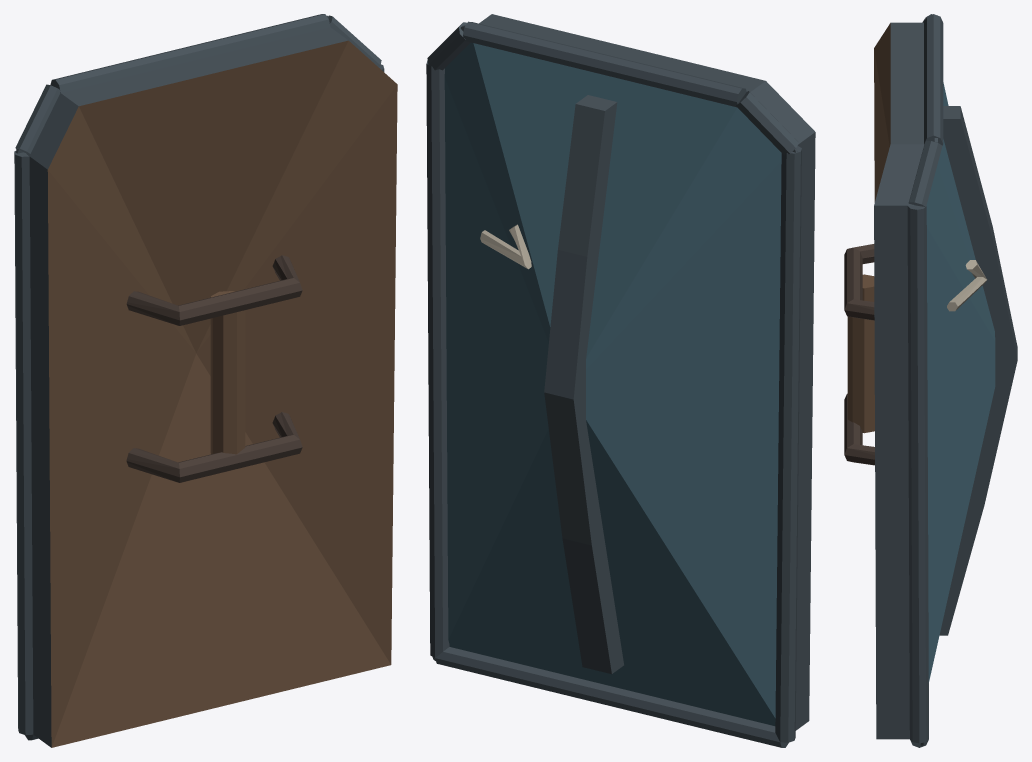
File: AEW_Shield_AshPavise.fbx
3 renders of one model, left to right at view 1: azimuth 30°, elevation 25°; view 2: azimuth 150°, elevation 25°; view 3: azimuth 270°, elevation 25°, orthographic. The views are drawn at different scales.
Visible parts, largest first — view 1: AEW_Shield_AshPavise; view 2: AEW_Shield_AshPavise; view 3: AEW_Shield_AshPavise.
Boxes of the visible parts, box(x1,y1,x2,y2) form: AEW_Shield_AshPavise: box(14, 14, 397, 747); AEW_Shield_AshPavise: box(426, 14, 815, 747); AEW_Shield_AshPavise: box(844, 14, 1017, 747).
Bounding box in the file's own units: 0.736 × 1.24 × 0.3255.
